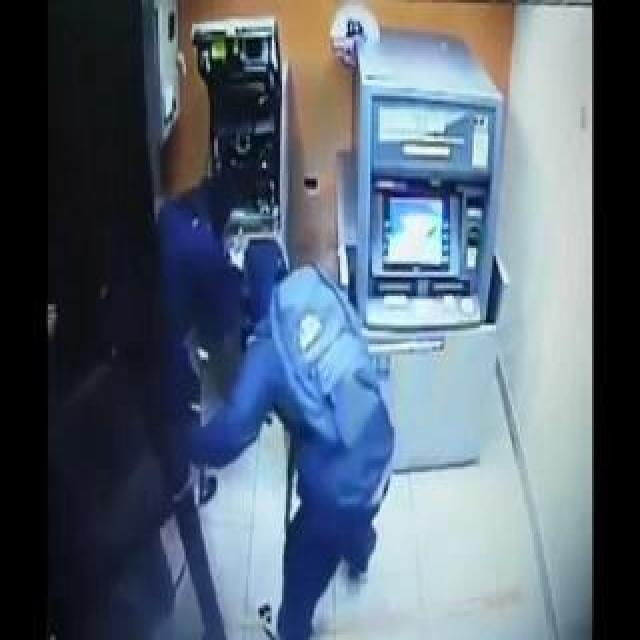thief: (152, 149, 306, 354)
